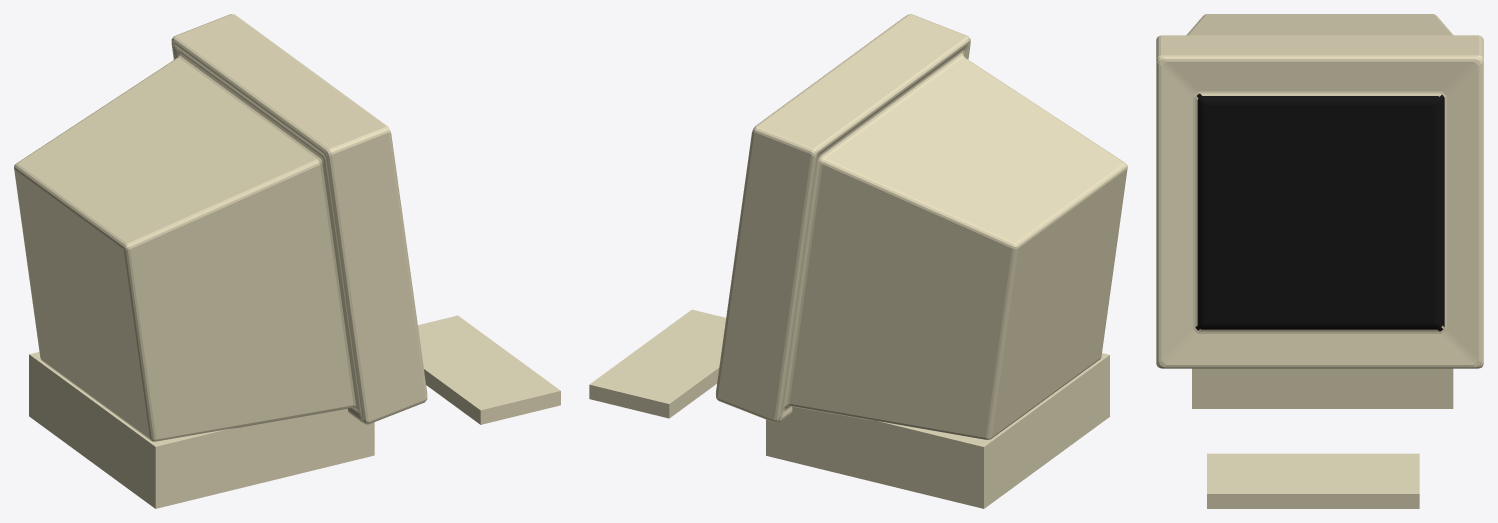
Rendered from Computer.fbx.
The picture shows the model from 3 angles, left to right: view 1: azimuth 30°, elevation 25°; view 2: azimuth 150°, elevation 25°; view 3: azimuth 270°, elevation 25°; orthographic projection. The views are drawn at different scales.
Visible parts, largest first — view 1: Cube.210, Cube.211, Cube.212; view 2: Cube.210, Cube.211, Cube.212; view 3: Cube.210, Cube.212, Cube.211.
Part boxes in pixels (x1,y1,x2,y2): Cube.210: (14,14,427,441); Cube.211: (29,352,374,508); Cube.212: (418,315,560,424); Cube.210: (715,14,1127,439); Cube.211: (766,353,1109,508); Cube.212: (589,309,725,418); Cube.210: (1156,14,1483,368); Cube.212: (1207,453,1419,508); Cube.211: (1192,368,1453,408).
Size of the model in its own units: 138 by 104 by 86.99.
